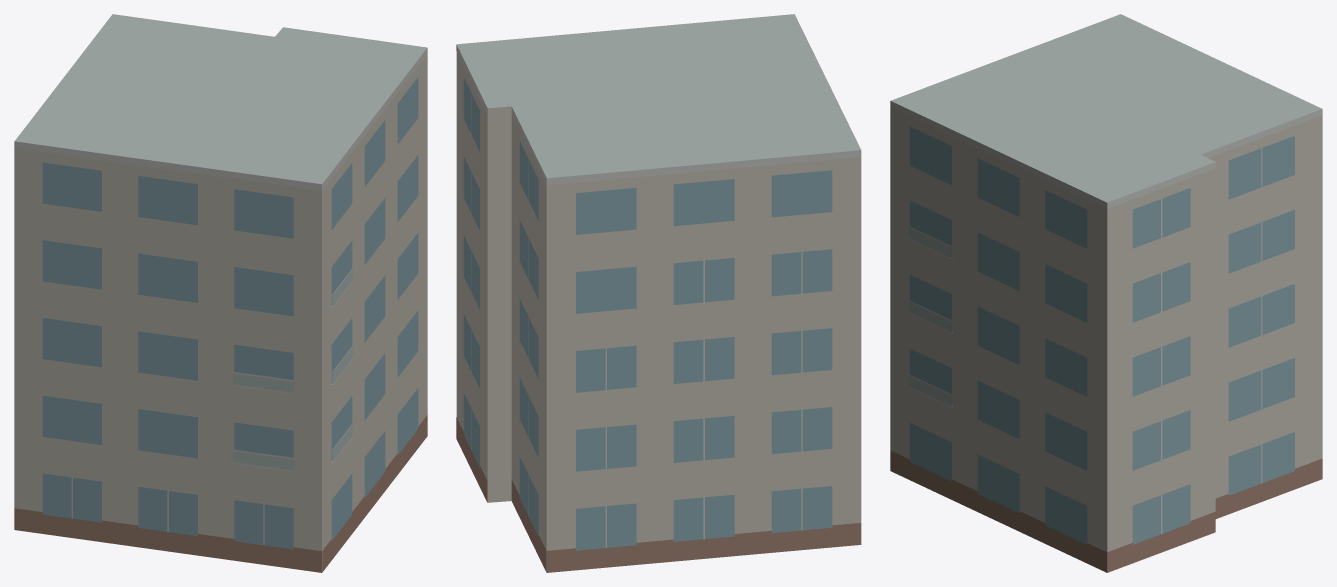
Rendered from survey-upis-32525291.glb.
The picture shows the model from 3 angles, left to right: view 1: azimuth 30°, elevation 25°; view 2: azimuth 150°, elevation 25°; view 3: azimuth 270°, elevation 25°; orthographic projection. The views are drawn at different scales.
Visible parts, largest first — view 1: survey-upis-32525291.tmp; view 2: survey-upis-32525291.tmp; view 3: survey-upis-32525291.tmp.
Part boxes in pixels (x1,y1,x2,y2): survey-upis-32525291.tmp: [14, 14, 427, 572]; survey-upis-32525291.tmp: [456, 14, 861, 572]; survey-upis-32525291.tmp: [890, 14, 1322, 572].
Bounding box in the file's own units: 15.53 × 14.2 × 15.03.
